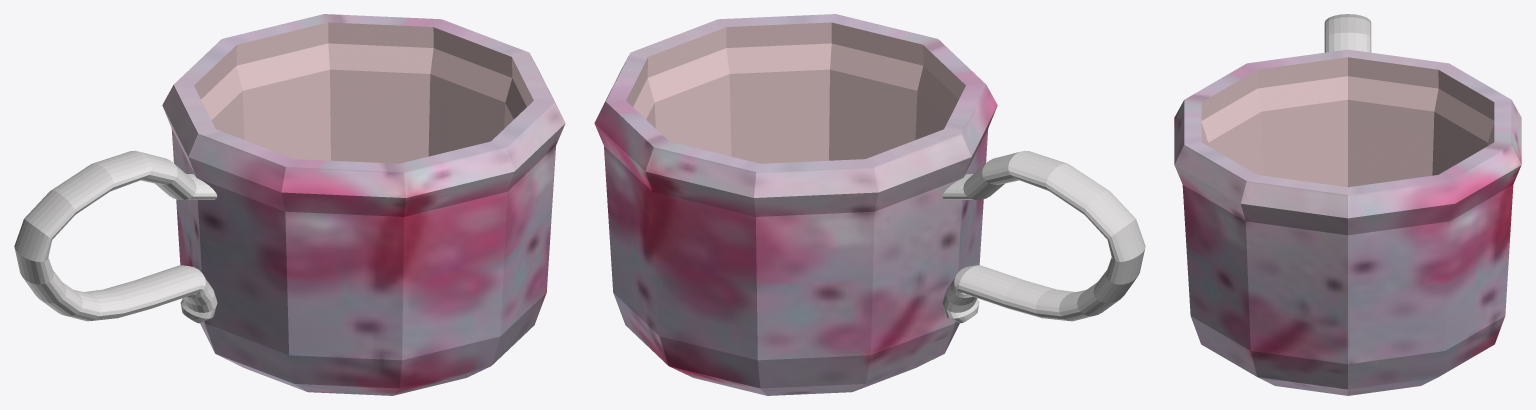
The model's file is tea_cup_model.fbx.
3 views of the same model, side by side, from view 1: azimuth 30°, elevation 25°; view 2: azimuth 150°, elevation 25°; view 3: azimuth 270°, elevation 25° (orthographic). The views are drawn at different scales.
Parts seen in each view (by area): view 1: polySurface2; view 2: polySurface2; view 3: polySurface2.
Part boxes in pixels (x1,y1,x2,y2): polySurface2: (14, 14, 565, 395); polySurface2: (594, 14, 1145, 395); polySurface2: (1174, 14, 1521, 395).
Size of the model in its own units: 0.0161 by 0.00728 by 0.0104.
